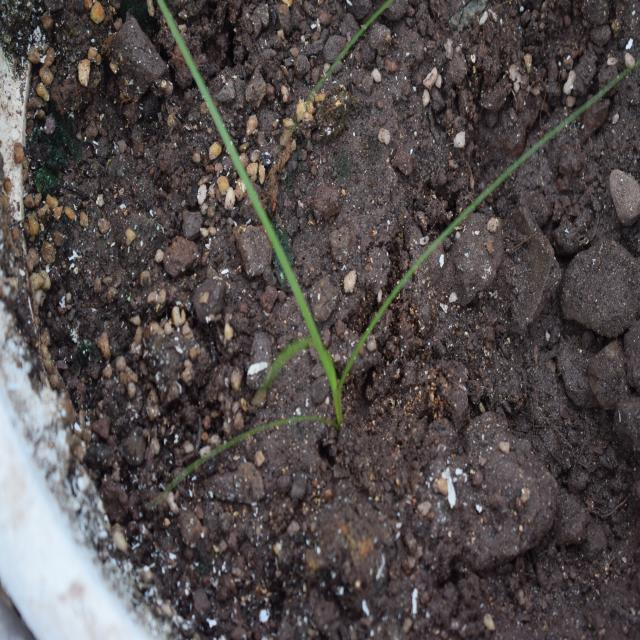sedge: (148, 78, 461, 500)
